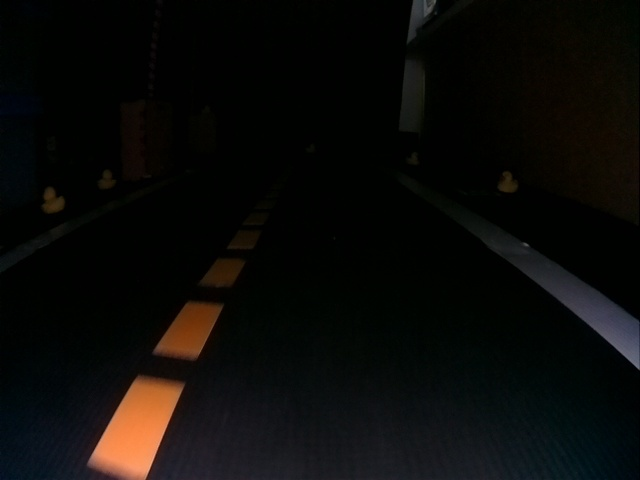Duckie: (42, 188, 64, 213), (498, 172, 516, 192), (97, 170, 115, 188), (409, 153, 419, 164), (307, 144, 315, 153)
